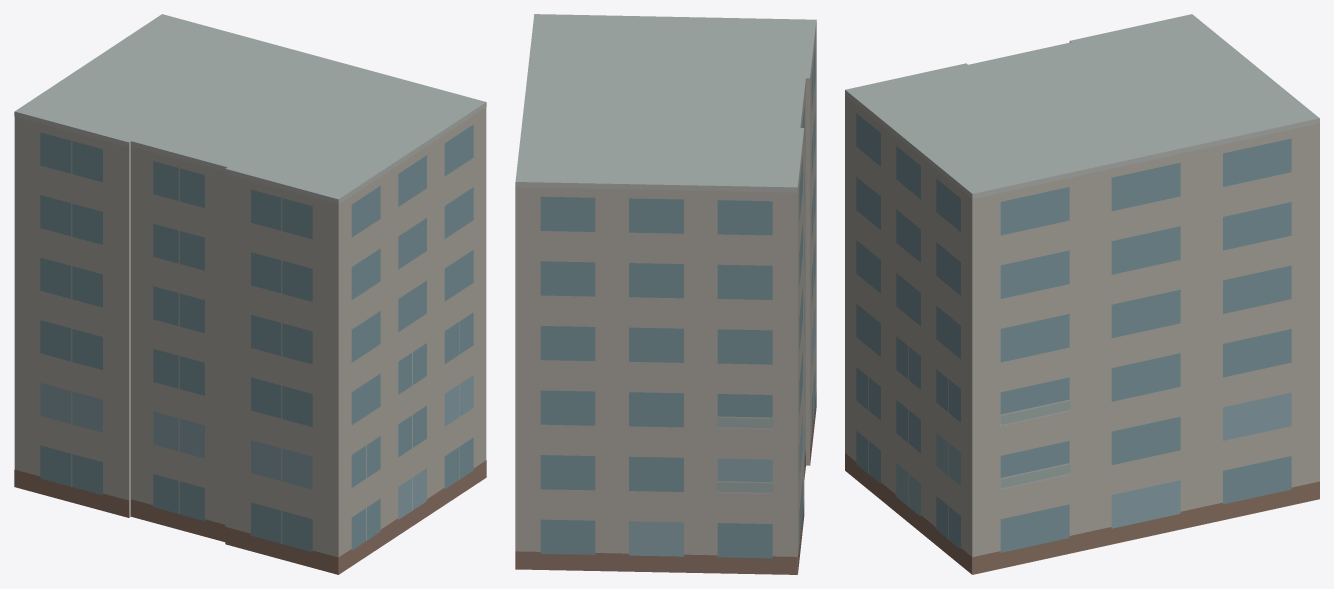
The model's file is survey-upis-32830678.glb.
3 views of the same model, side by side, from view 1: azimuth 30°, elevation 25°; view 2: azimuth 150°, elevation 25°; view 3: azimuth 270°, elevation 25° (orthographic). The views are drawn at different scales.
Visible parts, largest first — view 1: survey-upis-32830678.tmp; view 2: survey-upis-32830678.tmp; view 3: survey-upis-32830678.tmp.
Part boxes in pixels (x1,y1,x2,y2): survey-upis-32830678.tmp: (14,14,486,574); survey-upis-32830678.tmp: (515,14,816,574); survey-upis-32830678.tmp: (845,14,1319,574).
Size of the model in its own units: 18.56 by 18.3 by 20.68.
